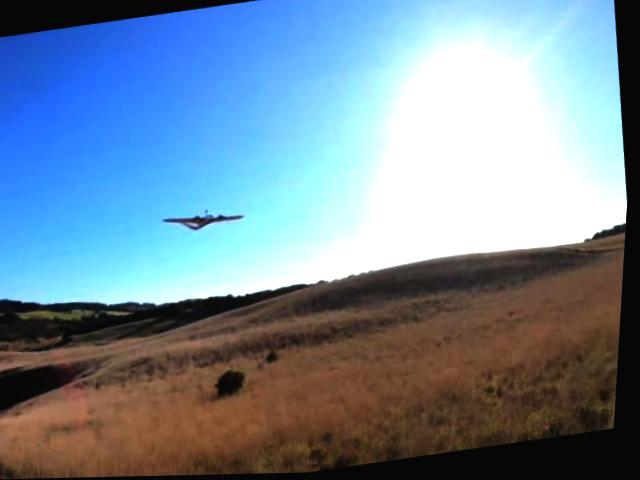uav: (162, 203, 249, 240)
